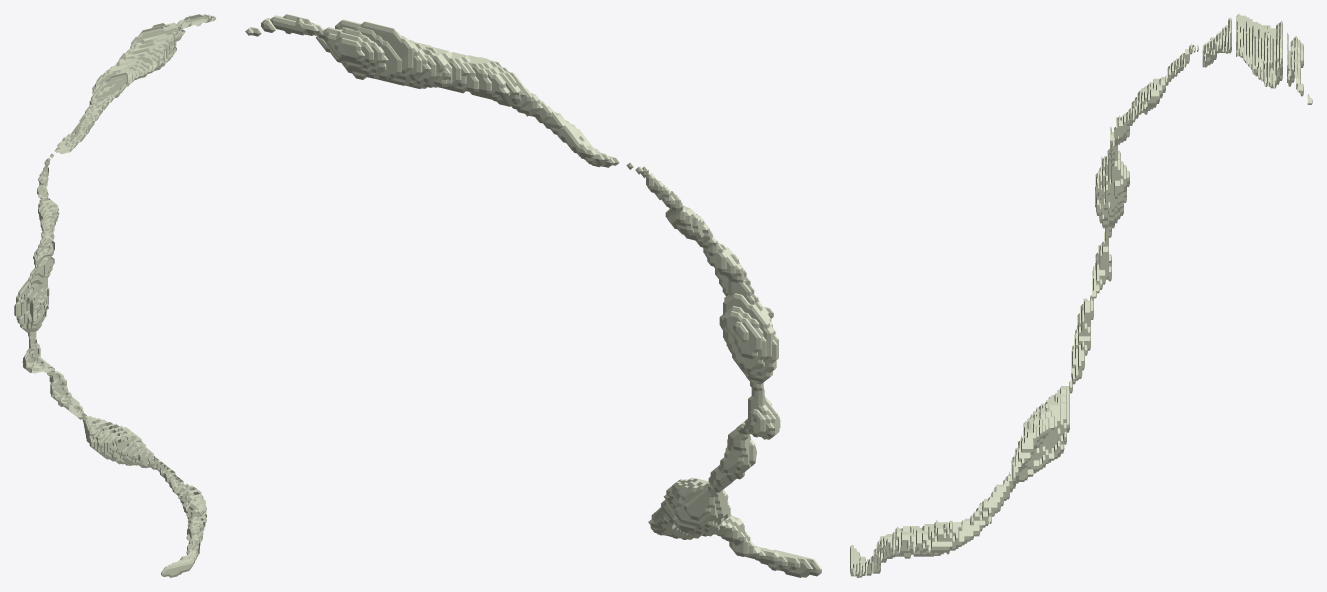
Rendered from SVV_ADFL.gltf.
The picture shows the model from 3 angles, left to right: view 1: azimuth 30°, elevation 25°; view 2: azimuth 150°, elevation 25°; view 3: azimuth 270°, elevation 25°; orthographic projection. The views are drawn at different scales.
Visible parts, largest first — view 1: ADFL; view 2: ADFL; view 3: ADFL.
Part boxes in pixels (x1,y1,x2,y2): ADFL: [14, 14, 216, 577]; ADFL: [245, 14, 821, 577]; ADFL: [850, 14, 1312, 577].
Size of the model in its own units: 59437 by 89133 by 59306.
